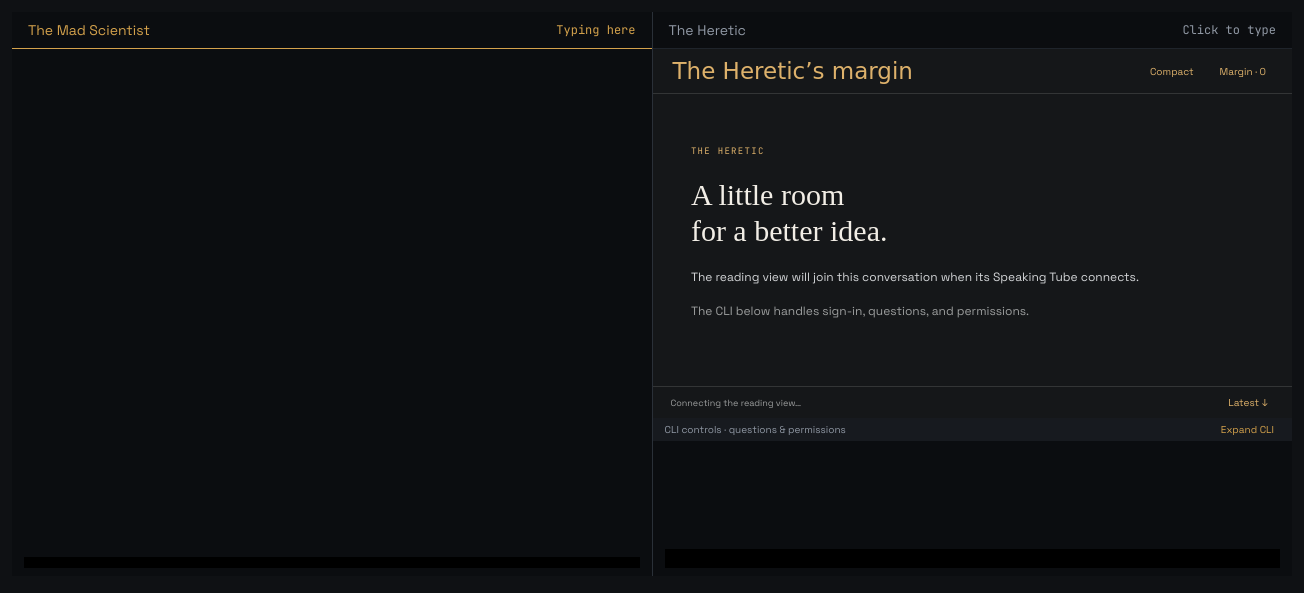
Scenario: ScientistCanvas — both colleagues visible › selects the clicked pane for the shared command input
Press the mouse on the element named "The Heretic" at coordinates (972, 294), box top-left (652, 12), bottom-right (1292, 576)
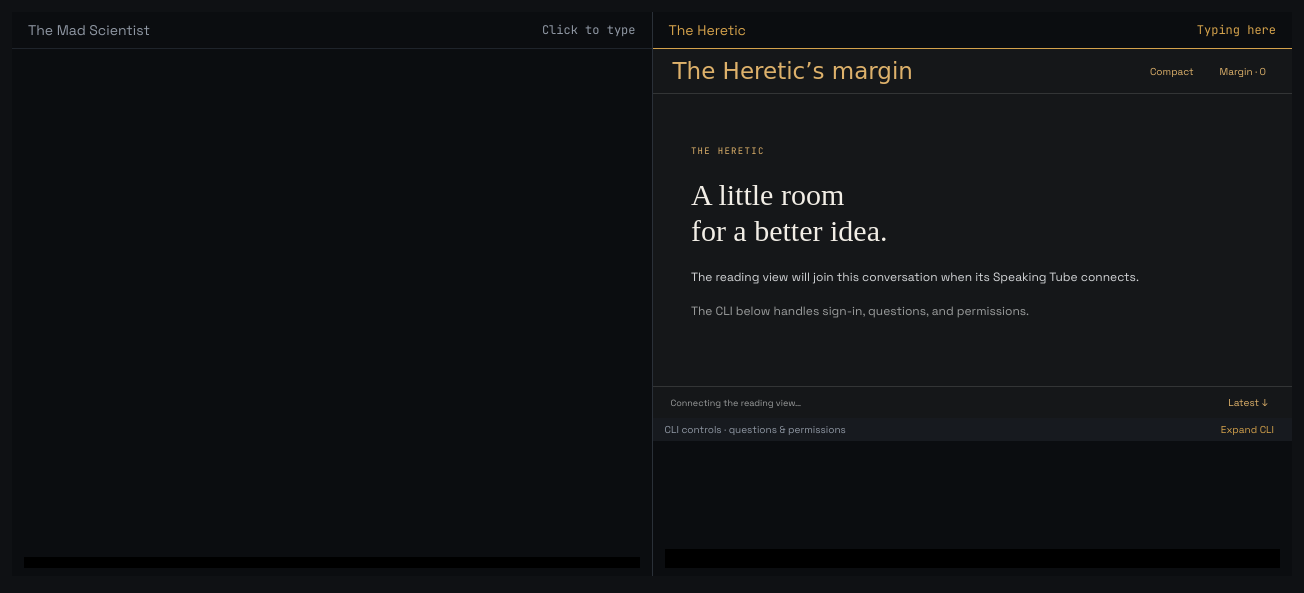
Result: the button "The Heretic Typing here" is shown at top-left (652, 12), bottom-right (1292, 49)
